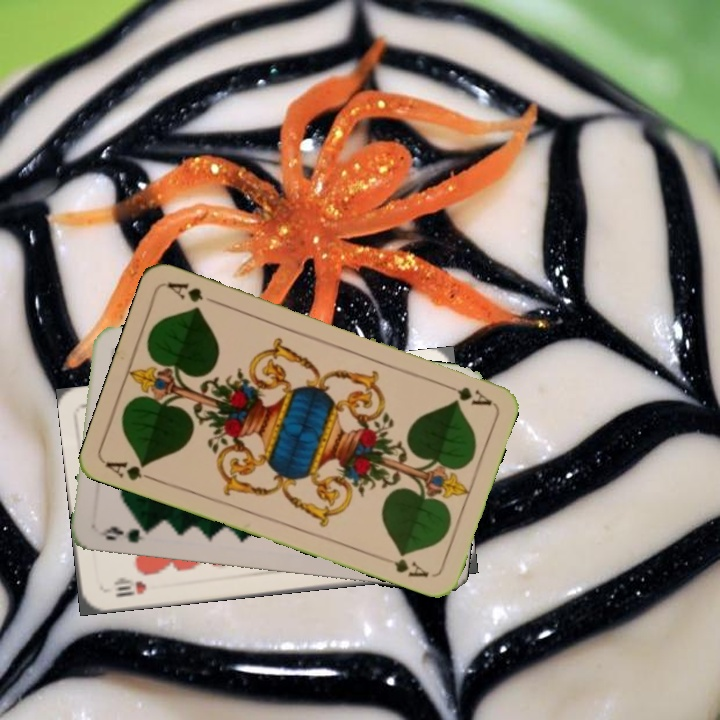G9: (94, 522, 155, 546)
GA: (437, 378, 494, 408), (102, 457, 160, 485)
H10: (109, 575, 149, 600)
